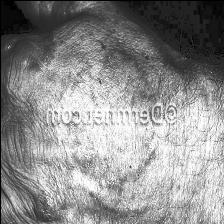Toxin: (64, 128, 162, 182), (50, 62, 163, 104), (15, 43, 42, 73)
